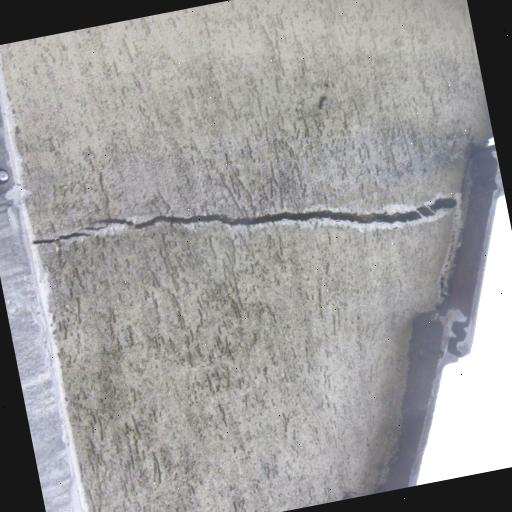spalling: (34, 189, 458, 258)
